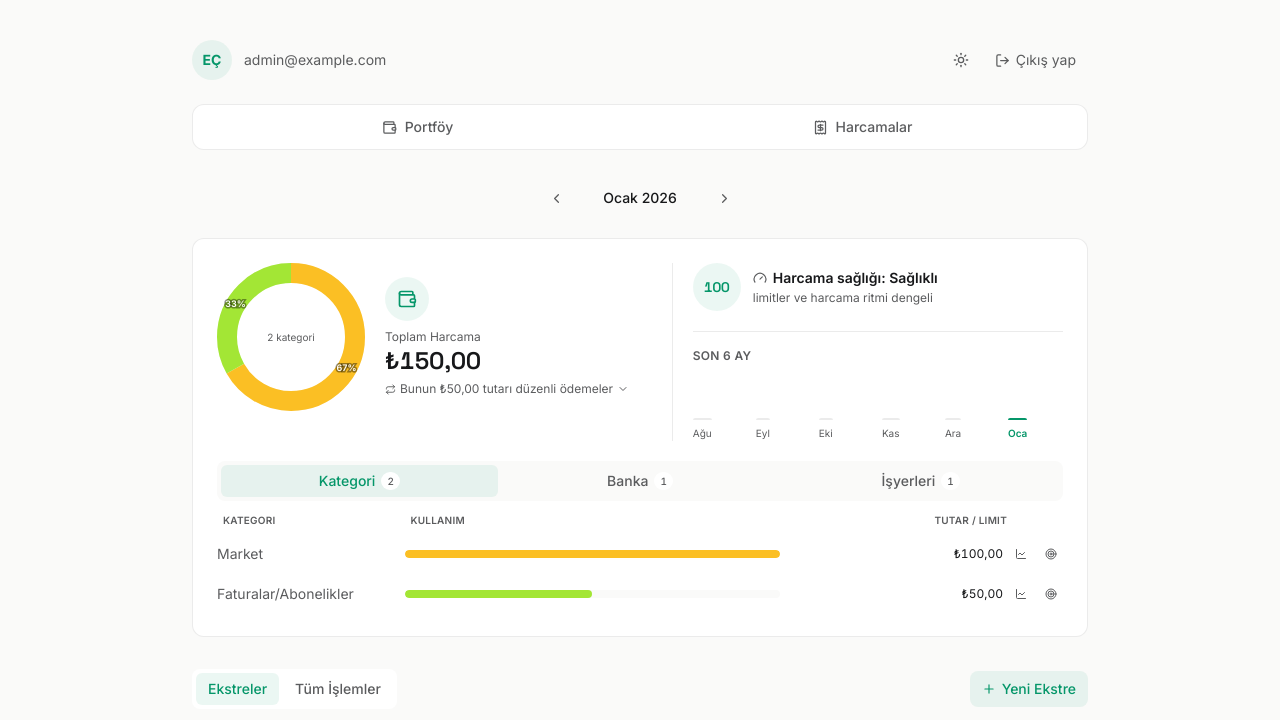
Test: Statements › renders the spending summary with category breakdown, and reveals recurring/bank/merchant details on demand
Expected: the text "Market" is shown, [217,545,263,562]
Expected: the text "Ocak 2026" is shown, [603,189,677,206]
Click the button "Bunun ₺50,00 tutarı düzenli ödemeler" at x=507, y=389, box [385,381,629,397]
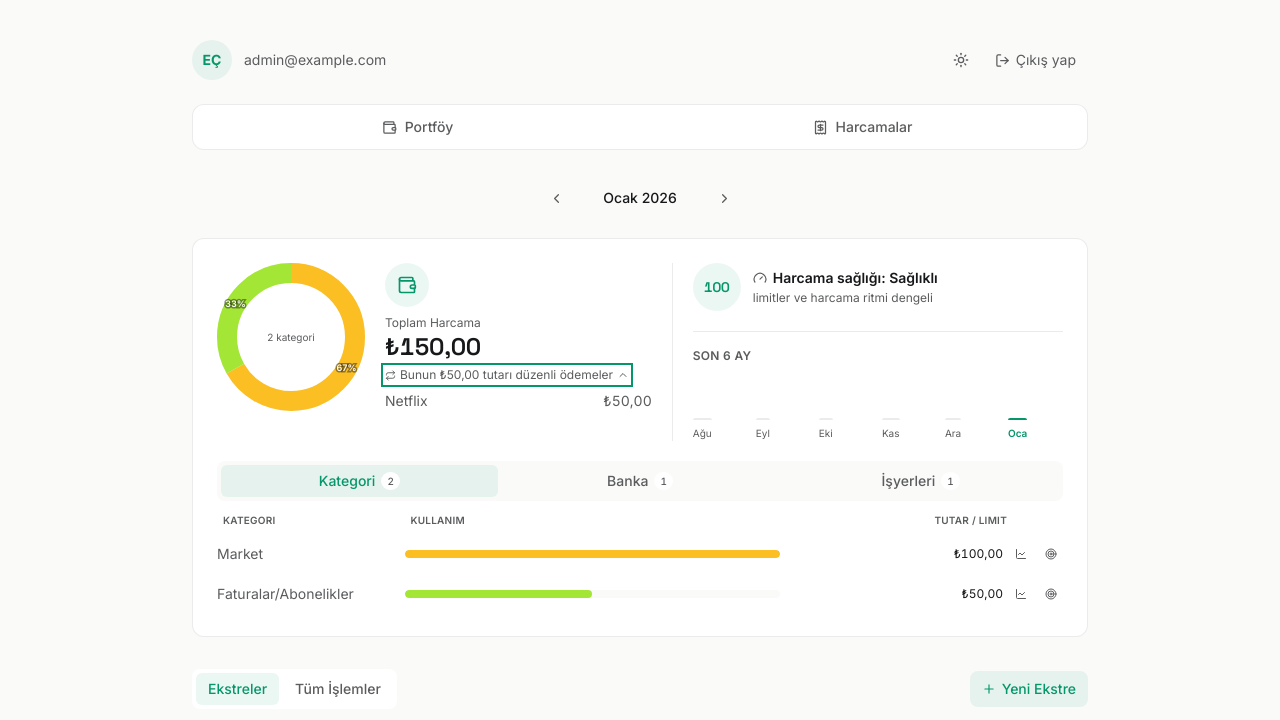
Expected: the text "Netflix" is shown, [385,391,428,411]
Bank/merchant breakdowns live behind tabs, not separate always-visible cards.
Click the button "Banka 1" at x=640, y=481, box [502,465,778,497]
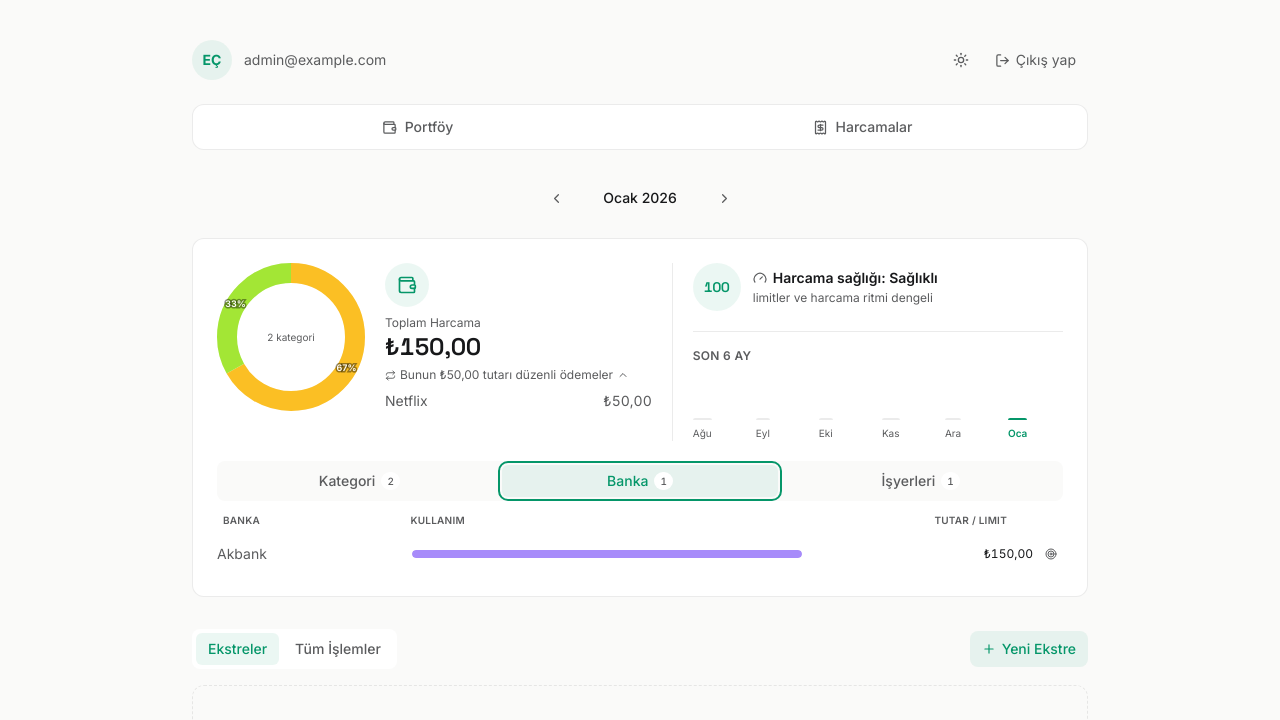
Expected: the text "Akbank" is shown, [217,545,267,562]
Click the button "İşyerleri 1" at x=921, y=481, box [782,465,1059,497]
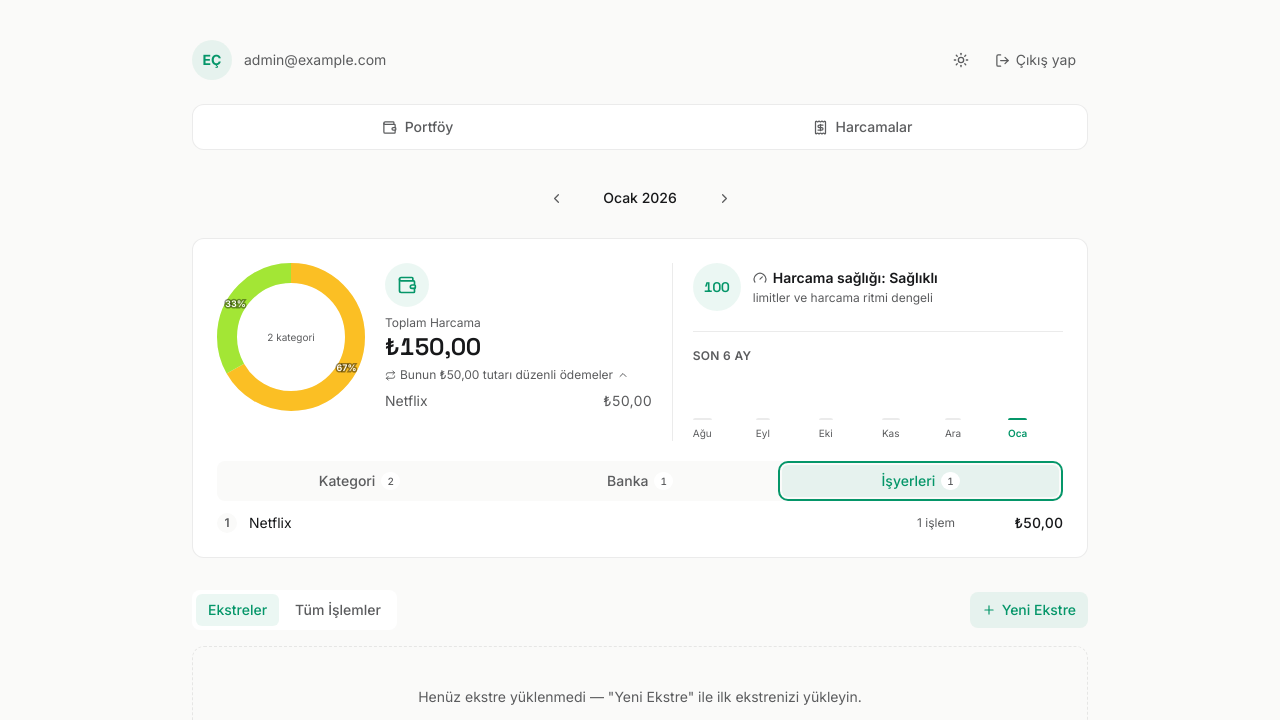
Expected: the text "1 işlem" is shown, [917,515,955,531]
